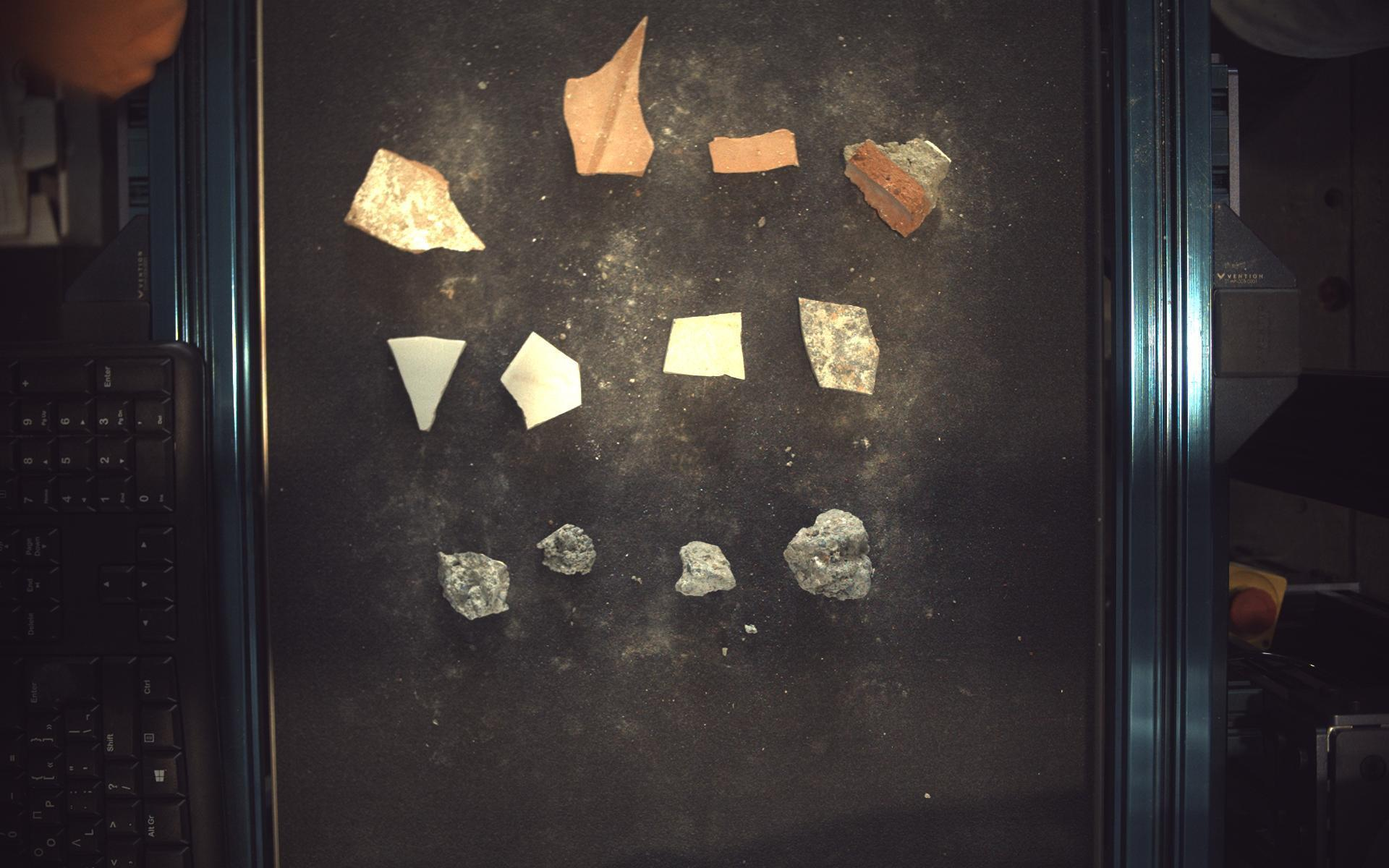brick: (344, 148, 485, 252), (564, 16, 655, 176), (845, 137, 953, 237), (710, 127, 799, 172)
concrete: (785, 509, 876, 601), (438, 553, 510, 621), (676, 542, 737, 597), (537, 524, 597, 576)
tile: (501, 331, 582, 430), (800, 297, 881, 394), (388, 336, 466, 431), (665, 312, 747, 380)
